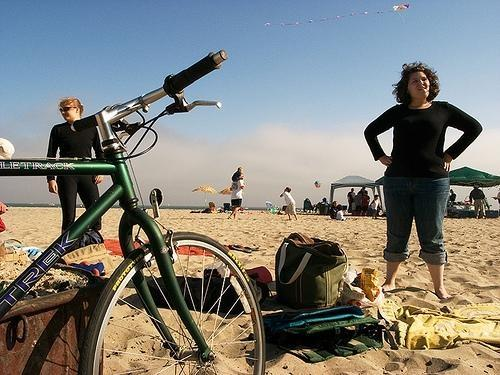bicycle: (1, 49, 267, 371)
